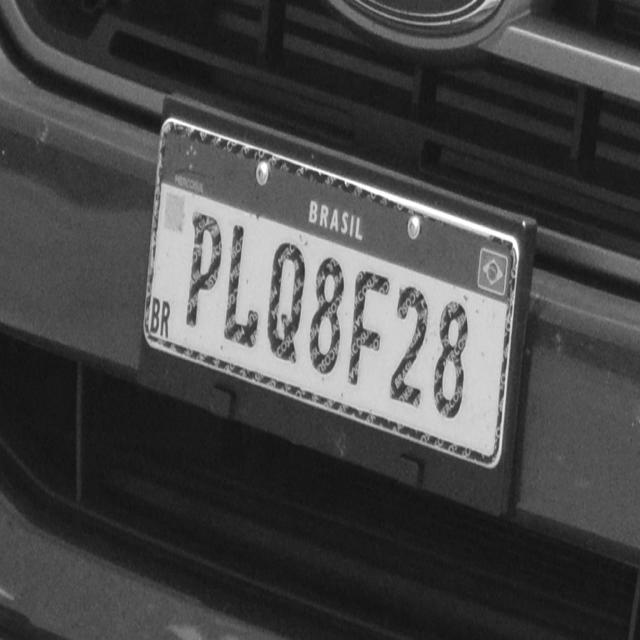placa_mercosul: (144, 118, 519, 468)
